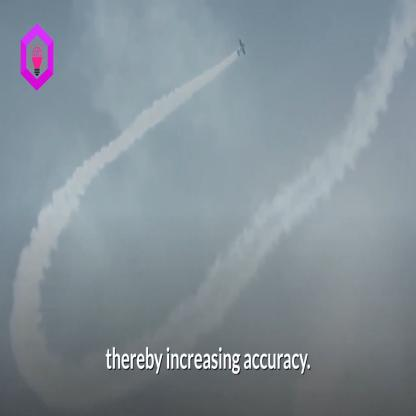plane: (234, 34, 252, 66)
